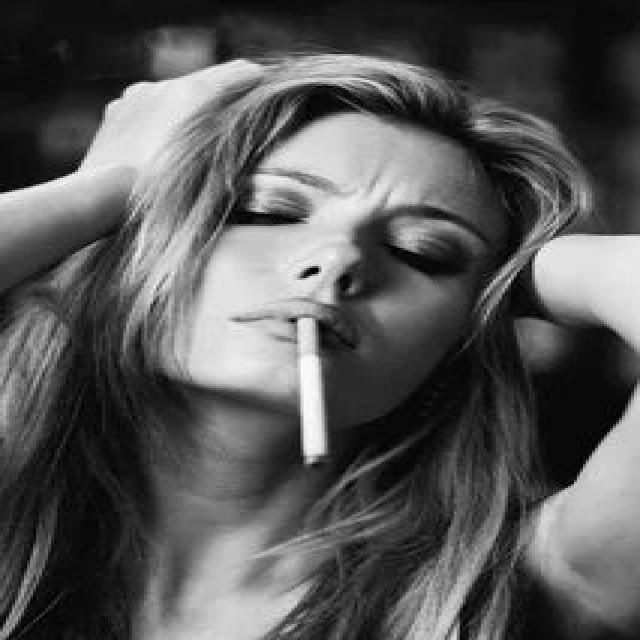smoke: (286, 310, 352, 480)
